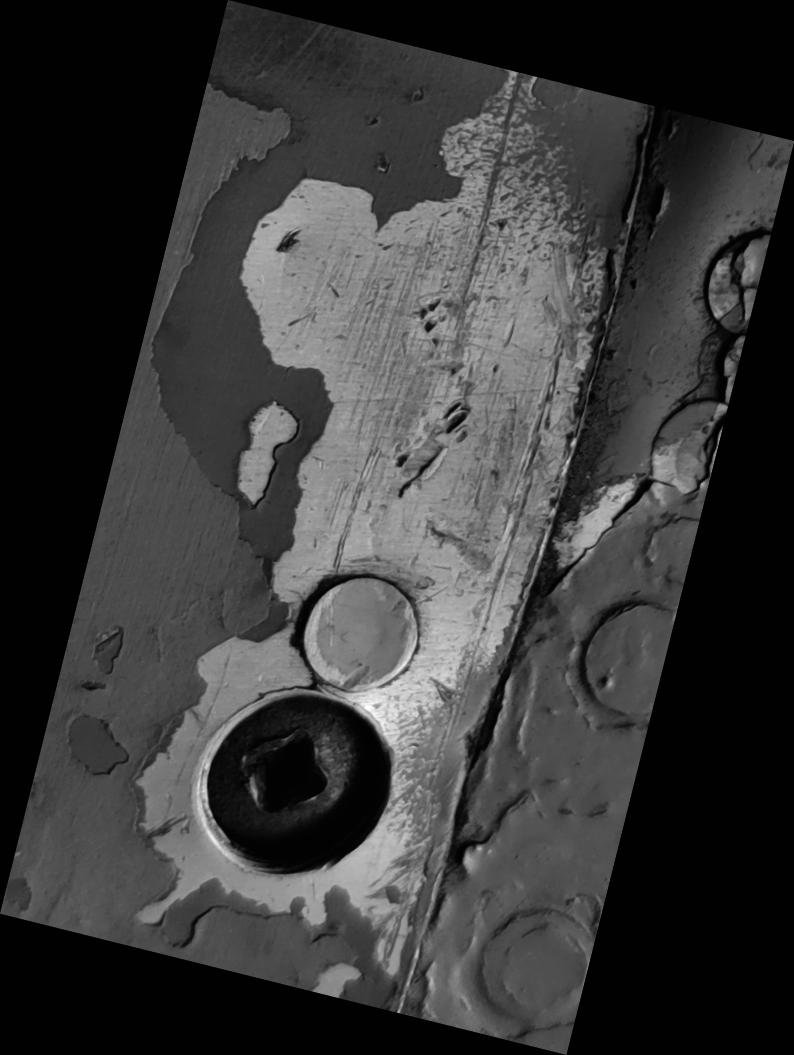paint-off: (1, 0, 794, 1054)
